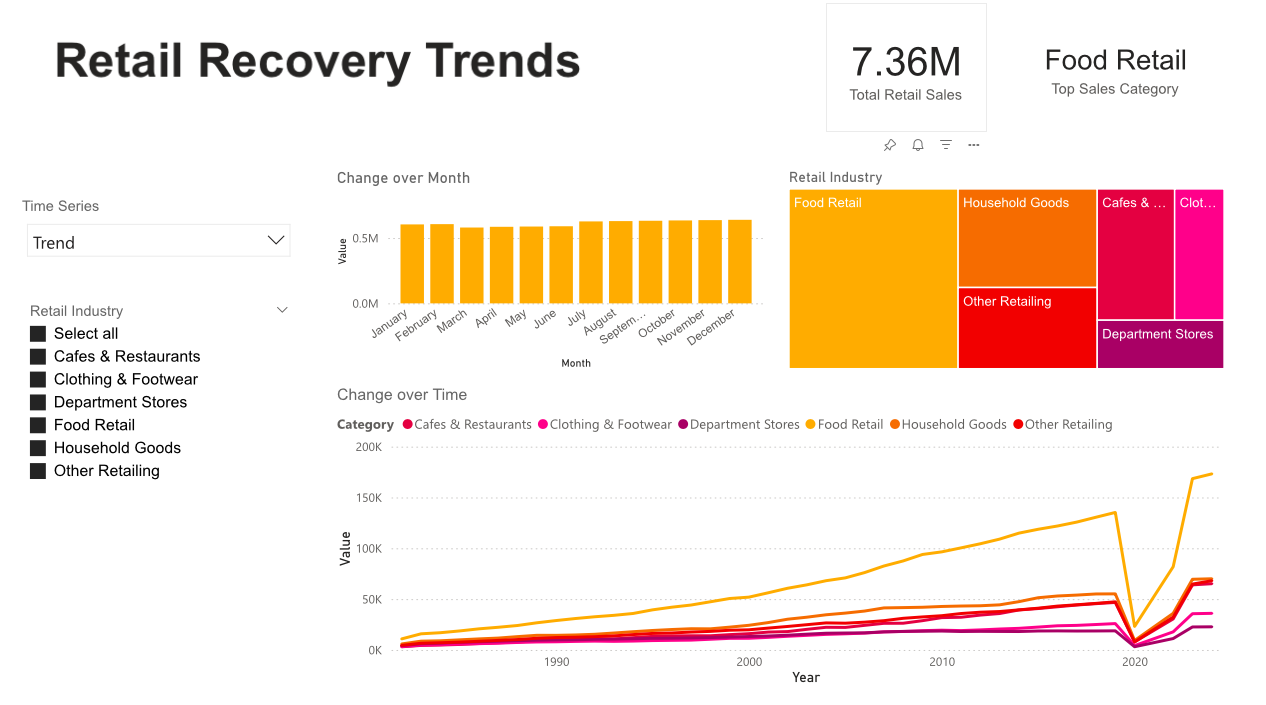

What the dashboard file says about the page in this screenshot:
{"tool":"powerbi","page":{"name":"Page 1","canvas":[1280,720],"ordinal":0},"visuals":[{"type":"slicer","title":"Time Series","fields":{"Values":["Data1.Data Type"]},"box":[19.4,204.8,285.3,83.3],"z":0},{"type":"card","fields":{"Values":["Data1.Total Retail Sales"]},"box":[832.5,8.9,161.9,130],"z":1000},{"type":"card","fields":{"Values":["Data1.Top Sales Category"]},"box":[1022.5,8.9,202.7,130],"z":2000},{"type":"lineChart","title":"Change over Time","fields":{"Category":["Data1.Date.Variation.Date Hierarchy.Year","Data1.Date.Variation.Date Hierarchy.Quarter","Data1.Date.Variation.Date Hierarchy.Month","Data1.Date.Variation.Date Hierarchy.Day"],"Series":["Data1.Category"],"Y":["Sum(Data1.Value)"]},"box":[335.5,394.2,902.6,305.8],"z":3000},{"type":"treemap","title":"Retail Industry","fields":{"Group":["Data1.Category"],"Values":["Sum(Data1.Value)"]},"box":[790.4,177.8,447.5,204],"z":4000},{"type":"lineStackedColumnComboChart","title":"Change over Month","fields":{"Category":["Data1.Date.Variation.Date Hierarchy.Month"],"Y":["Sum(Data1.Value)"]},"box":[335.5,178,439.3,204.2],"z":5000},{"type":"slicer","fields":{"Values":["Data1.Category"]},"box":[19.4,305.2,285.3,213.4],"z":6000},{"type":"textbox","box":[51,34.4,589,79],"z":7000}]}

Visuals, with their boxes on the page's 1280x720 design canvas (x1, y1, x2, y2). These are canvas units, not pixel positions in the 1266x705 screenshot, which may show the page scaled, cropped or inside an application window:
"Time Series" slicer: (left=19, top=205, right=305, bottom=288)
card - Data1.Total Retail Sales: (left=832, top=9, right=994, bottom=139)
card - Data1.Top Sales Category: (left=1022, top=9, right=1225, bottom=139)
"Change over Time" lineChart: (left=336, top=394, right=1238, bottom=700)
"Retail Industry" treemap: (left=790, top=178, right=1238, bottom=382)
"Change over Month" lineStackedColumnComboChart: (left=336, top=178, right=775, bottom=382)
slicer - Data1.Category: (left=19, top=305, right=305, bottom=519)
textbox: (left=51, top=34, right=640, bottom=113)
